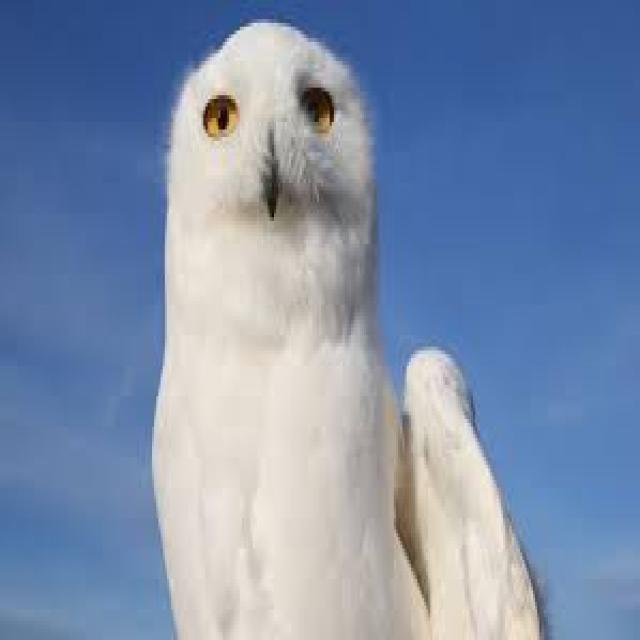snowy owl: (142, 13, 553, 626)
